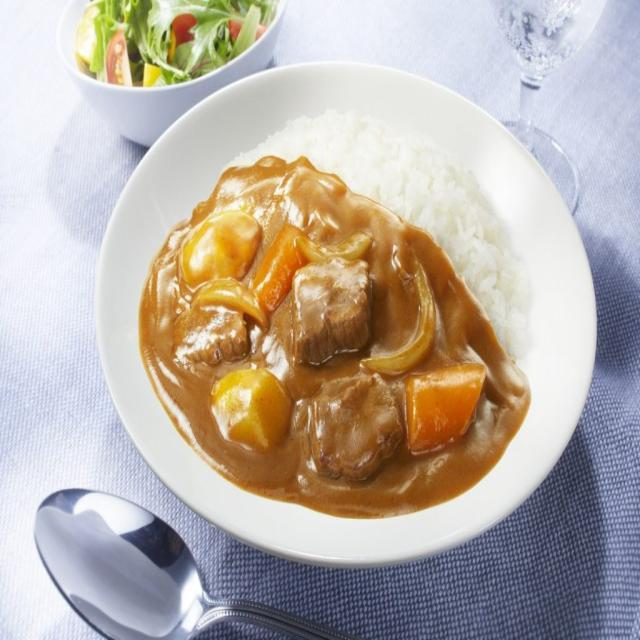cac loai rau cu: (410, 366, 486, 451), (375, 278, 435, 371), (217, 376, 289, 450), (180, 211, 252, 279), (254, 224, 291, 307), (294, 227, 373, 264), (197, 281, 269, 321)
com: (235, 110, 534, 336)
com ca ri: (136, 107, 530, 521)
thit bo: (309, 375, 401, 477), (293, 264, 370, 357), (172, 307, 247, 362)
